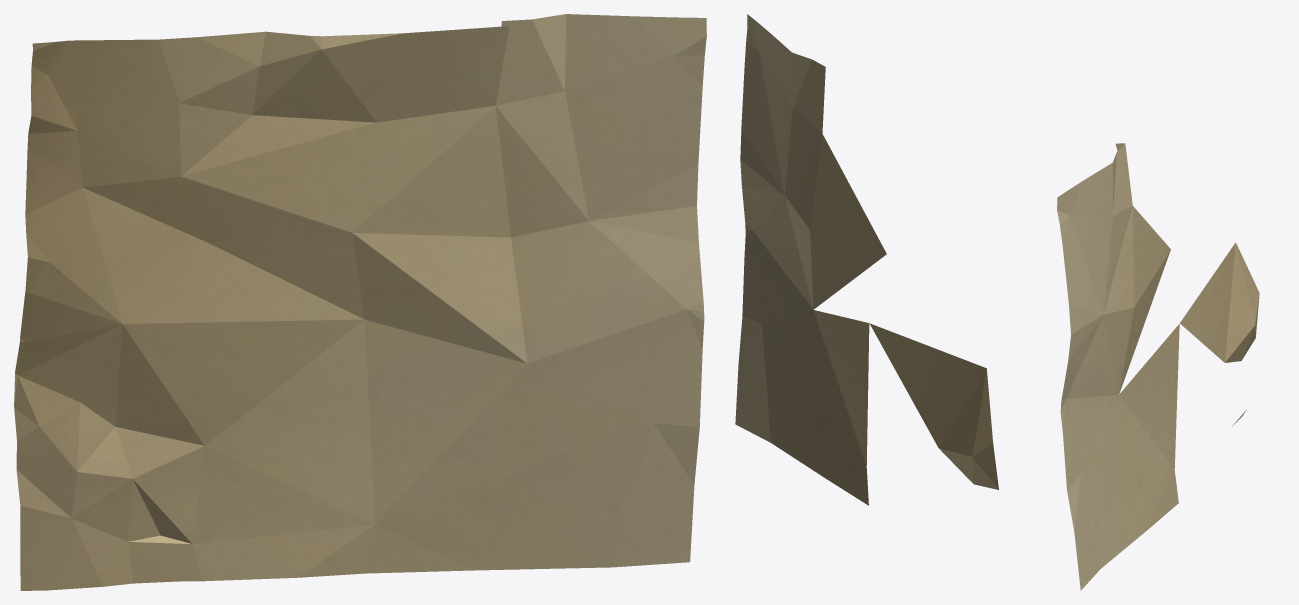
3 renders of one model, left to right at view 1: azimuth 30°, elevation 25°; view 2: azimuth 150°, elevation 25°; view 3: azimuth 270°, elevation 25°, orthographic. The views are drawn at different scales.
Bounding box in the file's own units: 0.8374 × 0.8374 × 0.4396.
3 materials, 3 textured.
